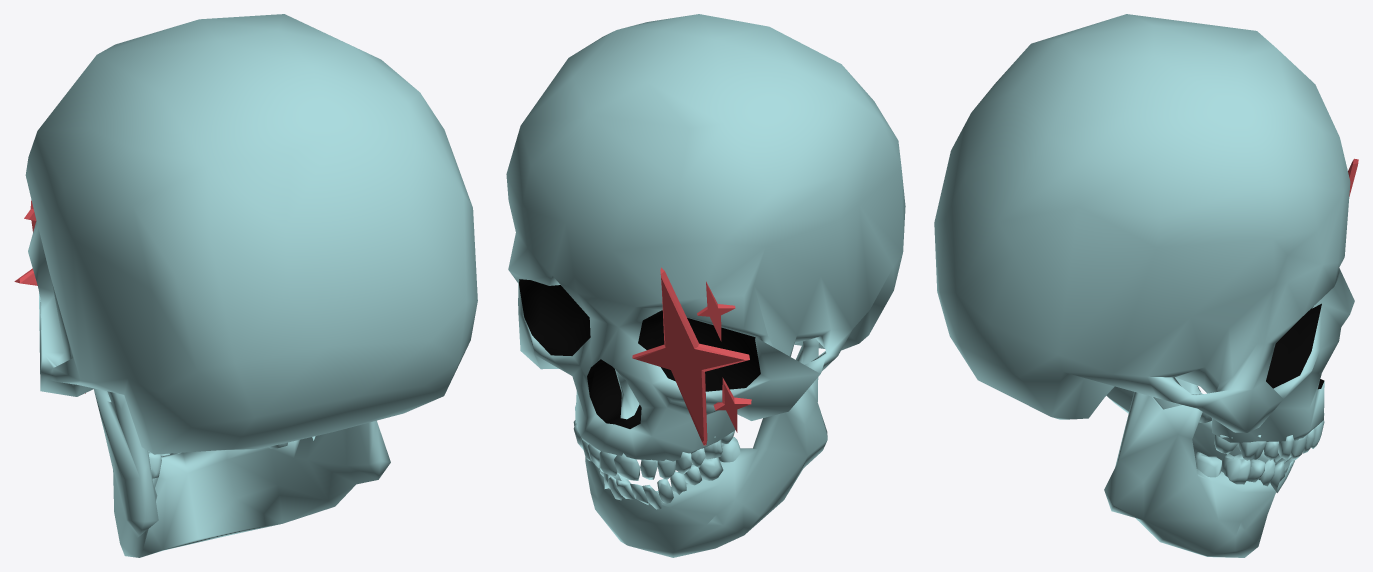
Rendered from skelly_skull.fbx.
The picture shows the model from 3 angles, left to right: view 1: azimuth 30°, elevation 25°; view 2: azimuth 150°, elevation 25°; view 3: azimuth 270°, elevation 25°; orthographic projection. The views are drawn at different scales.
Visible parts, largest first — view 1: skelly_skull; view 2: skelly_skull; view 3: skelly_skull.
Boxes of the visible parts, x1,y1,x2,y2 form: skelly_skull: (14,14,477,557); skelly_skull: (506,14,905,557); skelly_skull: (934,14,1358,557).
Bounding box in the file's own units: 17.93 × 26.47 × 20.06.
